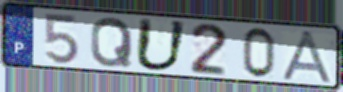0: (240, 26, 278, 79)
2: (189, 22, 231, 78)
5: (42, 11, 82, 66)
A: (278, 29, 337, 85)
Q: (88, 15, 135, 69)
U: (132, 16, 190, 74)
